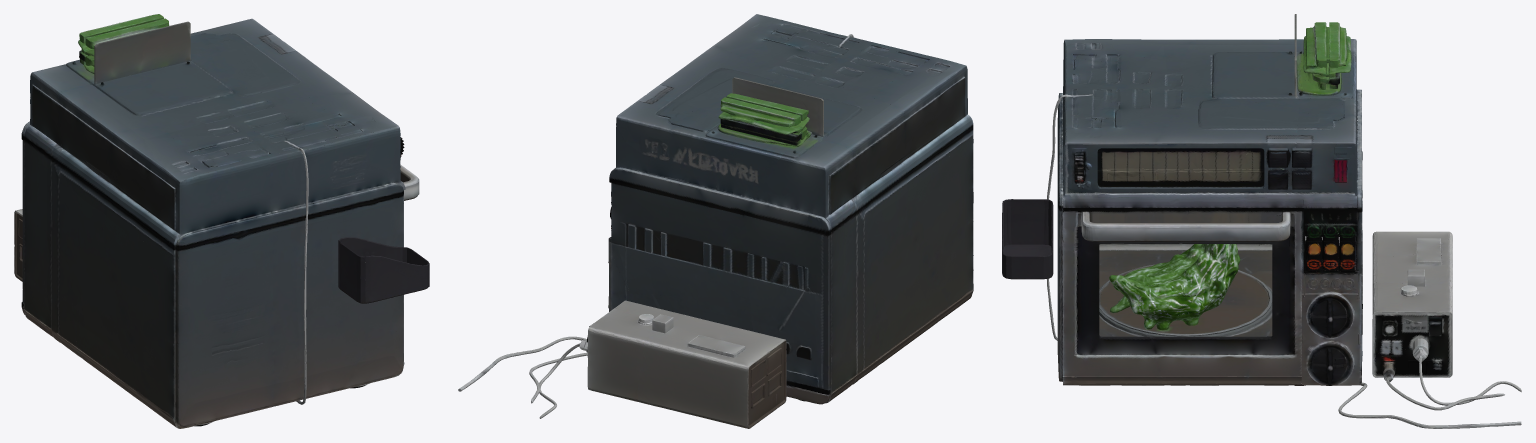
The model's file is time_machine2.glb.
3 views of the same model, side by side, from view 1: azimuth 30°, elevation 25°; view 2: azimuth 150°, elevation 25°; view 3: azimuth 270°, elevation 25° (orthographic). The views are drawn at different scales.
Parts seen in each view (by area): view 1: tripo_node_3e18205d-1cd6-47af-b0a1-1f1a0b9cdbd2; view 2: tripo_node_3e18205d-1cd6-47af-b0a1-1f1a0b9cdbd2; view 3: tripo_node_3e18205d-1cd6-47af-b0a1-1f1a0b9cdbd2.
Part boxes in pixels (x1,y1,x2,y2): tripo_node_3e18205d-1cd6-47af-b0a1-1f1a0b9cdbd2: (14, 14, 429, 428); tripo_node_3e18205d-1cd6-47af-b0a1-1f1a0b9cdbd2: (458, 14, 973, 428); tripo_node_3e18205d-1cd6-47af-b0a1-1f1a0b9cdbd2: (1002, 14, 1521, 428).
Size of the model in its own units: 0.6834 by 0.6217 by 1.
Materials: 1 (1 with a texture image).
